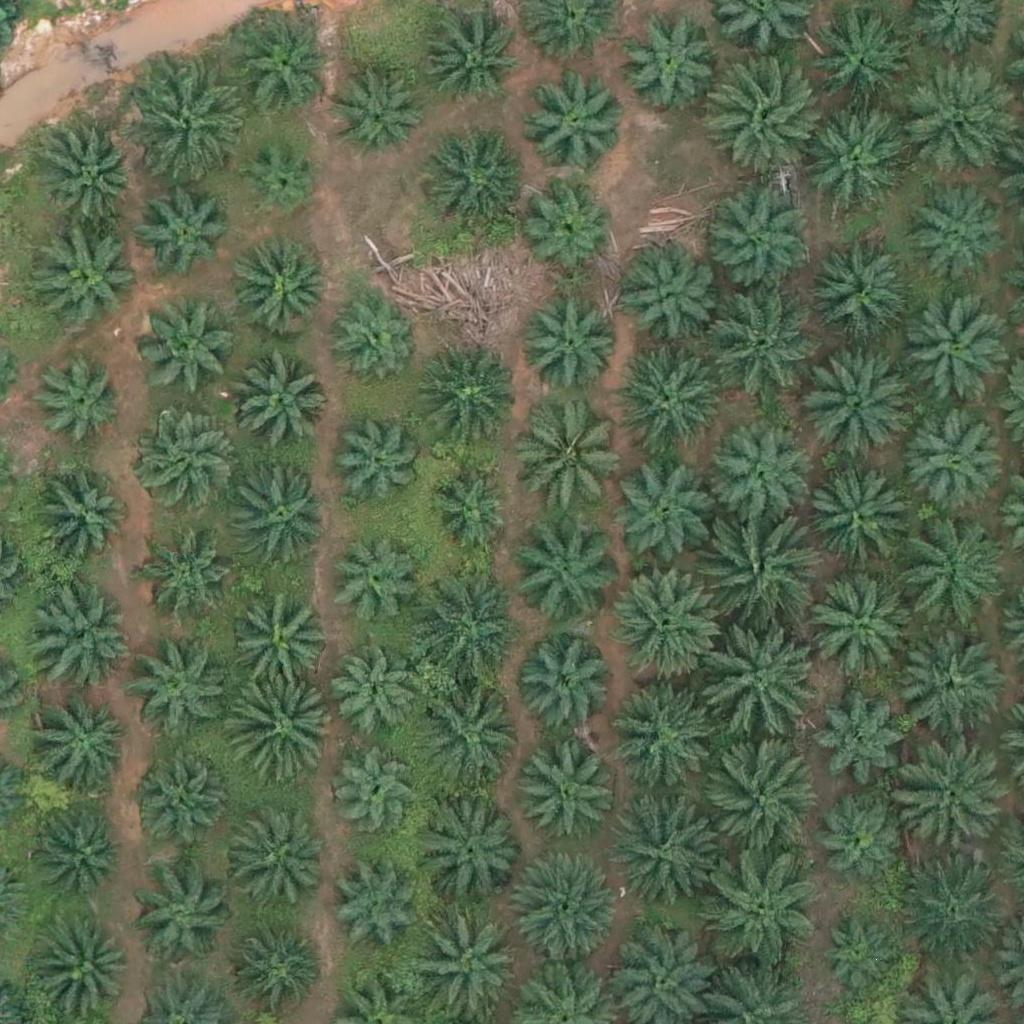Kelapa_Sawit: (892, 634, 1005, 748), (610, 791, 723, 905), (898, 60, 1011, 174), (130, 68, 243, 182), (700, 517, 813, 630), (709, 746, 822, 859), (610, 681, 723, 794), (507, 518, 620, 631), (509, 853, 622, 966), (413, 673, 526, 786), (414, 573, 527, 686), (897, 295, 1010, 408), (608, 339, 721, 452), (704, 851, 816, 965), (224, 672, 336, 786), (899, 516, 1011, 629), (900, 748, 1012, 861), (899, 850, 1011, 963), (805, 569, 917, 682), (706, 629, 818, 742), (609, 565, 721, 678), (803, 344, 915, 457), (707, 289, 819, 402), (701, 179, 813, 292), (708, 59, 820, 172), (517, 402, 629, 515), (235, 16, 335, 117), (421, 8, 521, 109), (812, 691, 912, 792), (512, 636, 612, 737), (520, 740, 620, 841), (423, 804, 523, 905), (235, 596, 335, 697), (127, 644, 227, 745), (129, 754, 229, 855), (34, 690, 134, 791), (905, 408, 1005, 509), (904, 179, 1004, 280), (803, 109, 903, 210), (807, 242, 907, 343), (802, 470, 902, 571), (711, 425, 811, 526), (618, 246, 718, 347), (611, 460, 711, 561), (523, 294, 623, 395), (526, 69, 626, 170), (422, 129, 522, 230), (135, 410, 235, 511), (27, 351, 127, 452), (617, 10, 717, 110), (223, 807, 323, 907), (132, 864, 232, 964), (33, 471, 133, 571), (36, 587, 136, 687), (813, 16, 913, 116), (417, 348, 517, 448), (231, 237, 331, 337), (231, 350, 331, 450), (230, 465, 330, 565), (139, 295, 239, 395), (43, 125, 143, 225), (34, 231, 134, 331), (326, 540, 414, 628), (330, 652, 418, 740), (228, 923, 316, 1011), (149, 541, 237, 629), (36, 807, 124, 895), (426, 461, 514, 549), (336, 71, 424, 159), (824, 795, 911, 883), (332, 749, 419, 837), (333, 868, 420, 956), (526, 181, 613, 269), (333, 415, 420, 503), (330, 292, 417, 380), (140, 192, 227, 280), (244, 141, 319, 217), (822, 918, 897, 994)
